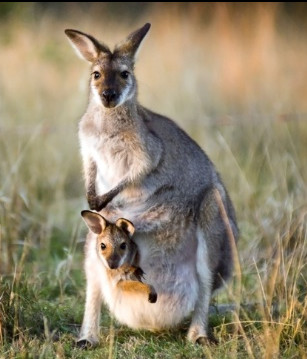kangaroo: (60, 24, 238, 351), (79, 206, 162, 305)
